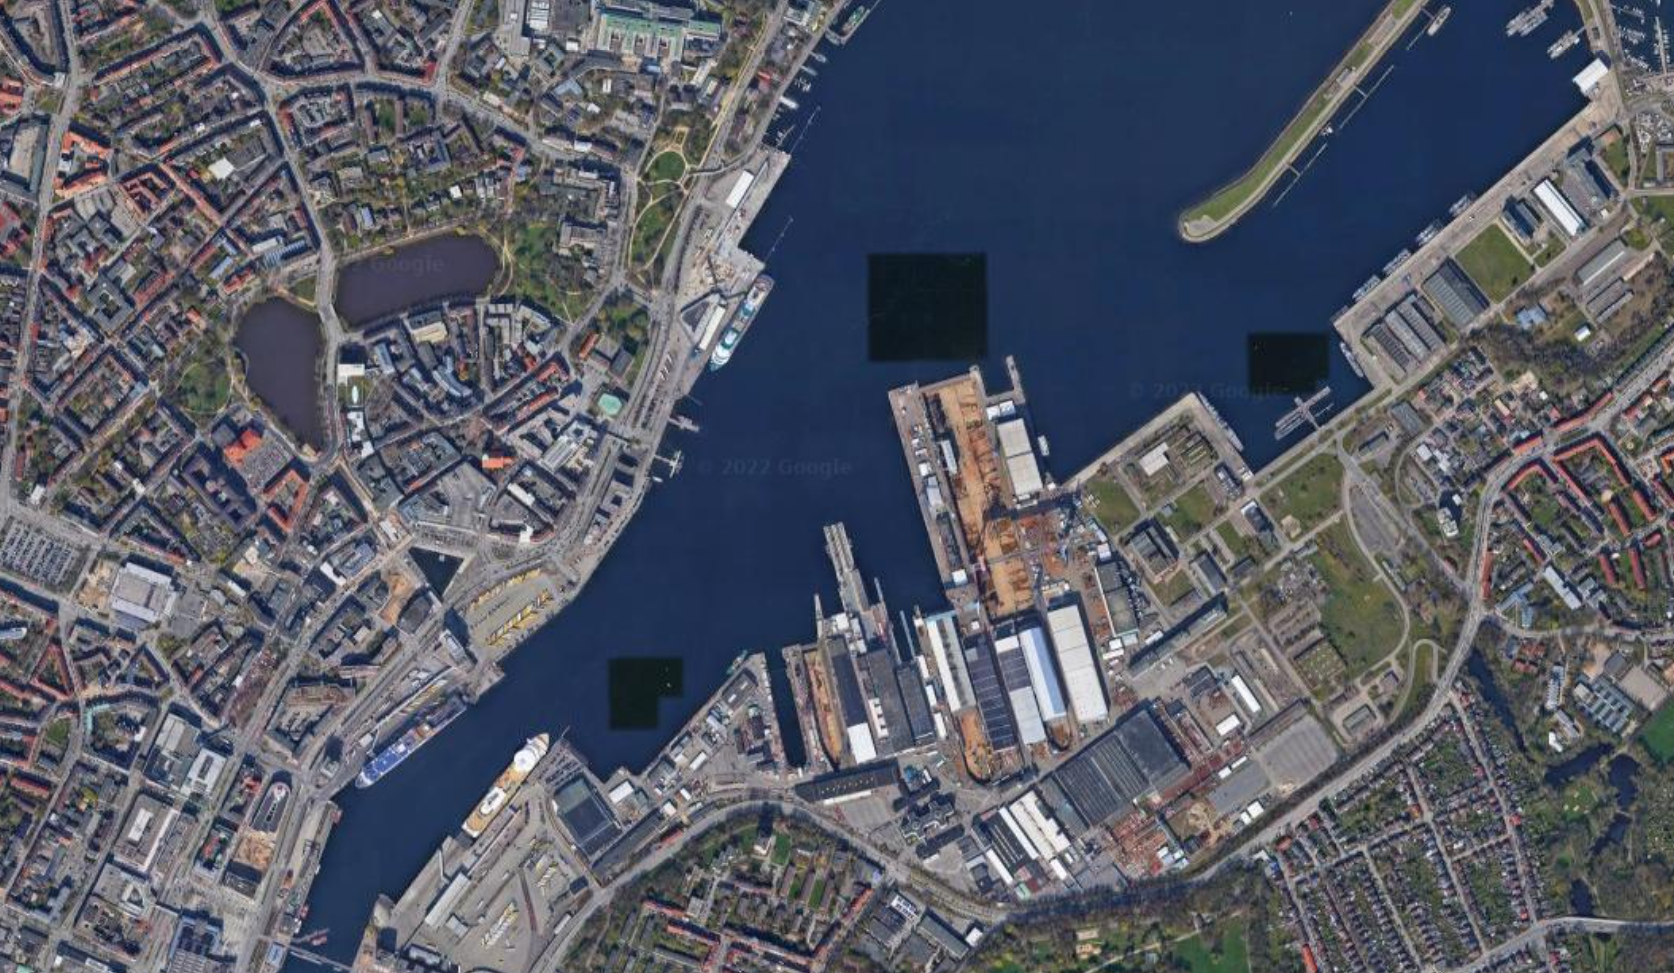ship: (355, 693, 467, 790), (458, 732, 549, 837), (708, 275, 774, 374)
